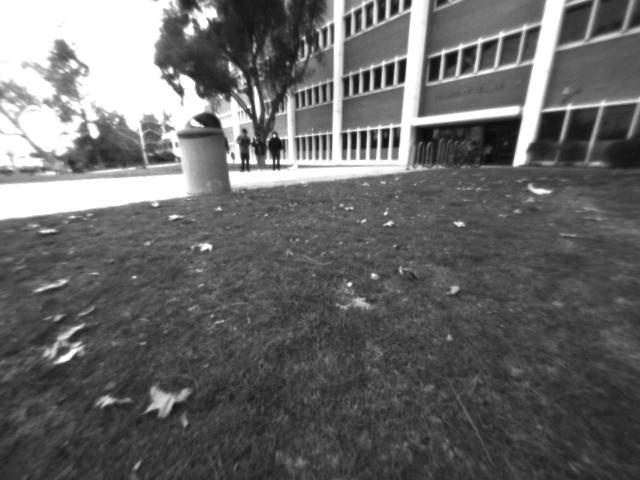trashcan: (164, 103, 241, 199)
